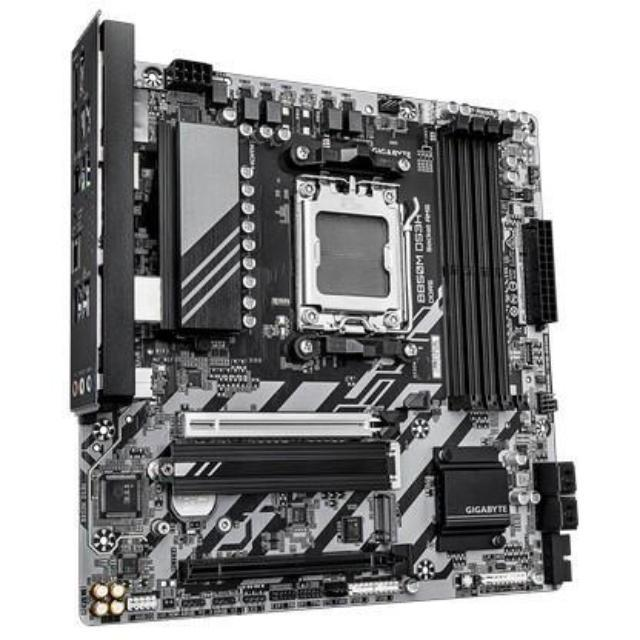Mainboard: (65, 9, 582, 626)
